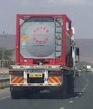truck: (6, 10, 84, 103)
